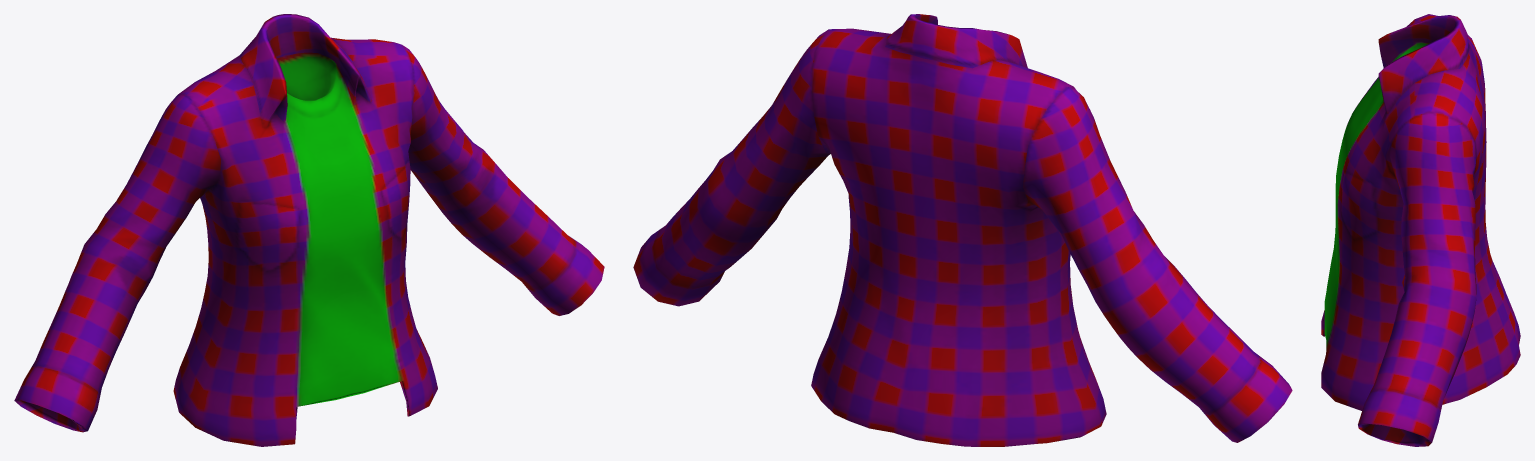
Rendered from Top_ButtonUp.obj.
The picture shows the model from 3 angles, left to right: view 1: azimuth 30°, elevation 25°; view 2: azimuth 150°, elevation 25°; view 3: azimuth 270°, elevation 25°; orthographic projection. The views are drawn at different scales.
Visible parts, largest first — view 1: Top_ButtonUp_0; view 2: Top_ButtonUp_0; view 3: Top_ButtonUp_0.
Boxes of the visible parts, bbox=[...] form: Top_ButtonUp_0: bbox=[14, 14, 604, 446]; Top_ButtonUp_0: bbox=[633, 14, 1292, 446]; Top_ButtonUp_0: bbox=[1321, 14, 1520, 446].
Size of the model in its own units: 0.9093 by 0.5471 by 0.2901.
Materials: 1 (1 with a texture image).
